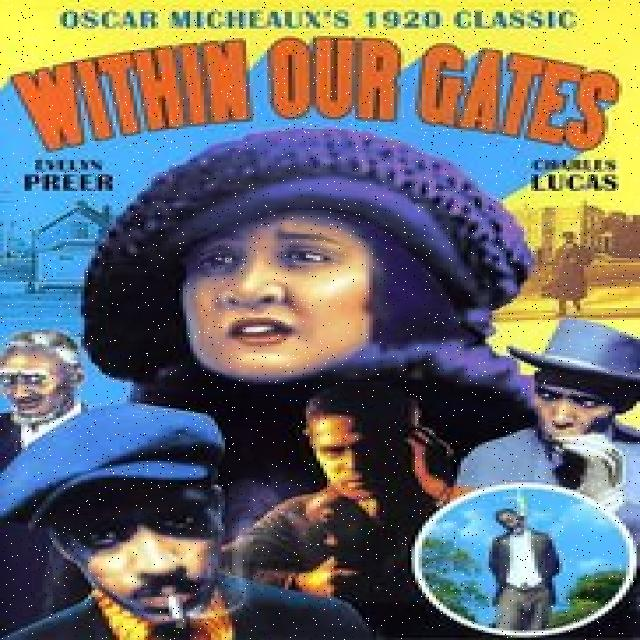movie-judul: (7, 24, 640, 172)
picture: (3, 136, 640, 640)
